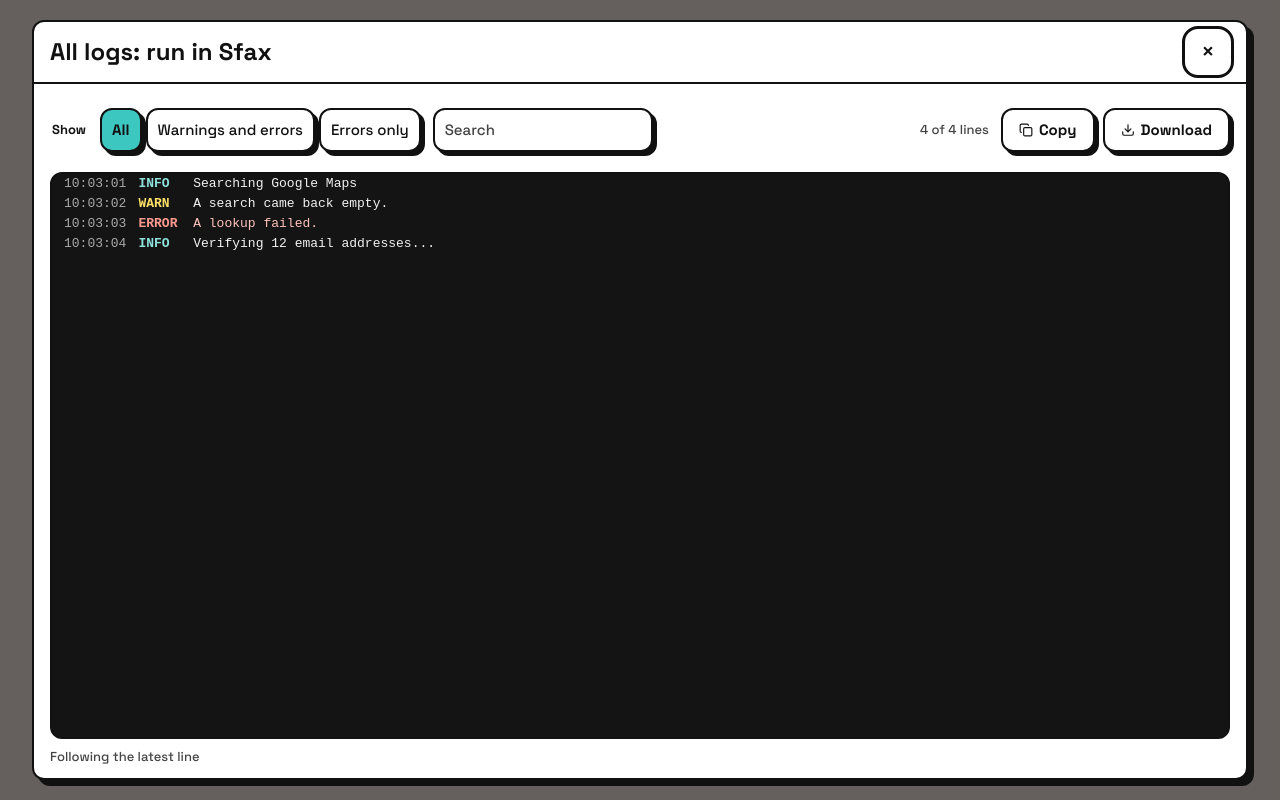
LogModal › filters by level and by text
(page scrolled)
Check: the text "Searching Google Maps" is shown, box [193,176,357,191]
Step 1. Click the radio button labelled "Warnings and errors" → (230, 130), box [146,108,315,152]
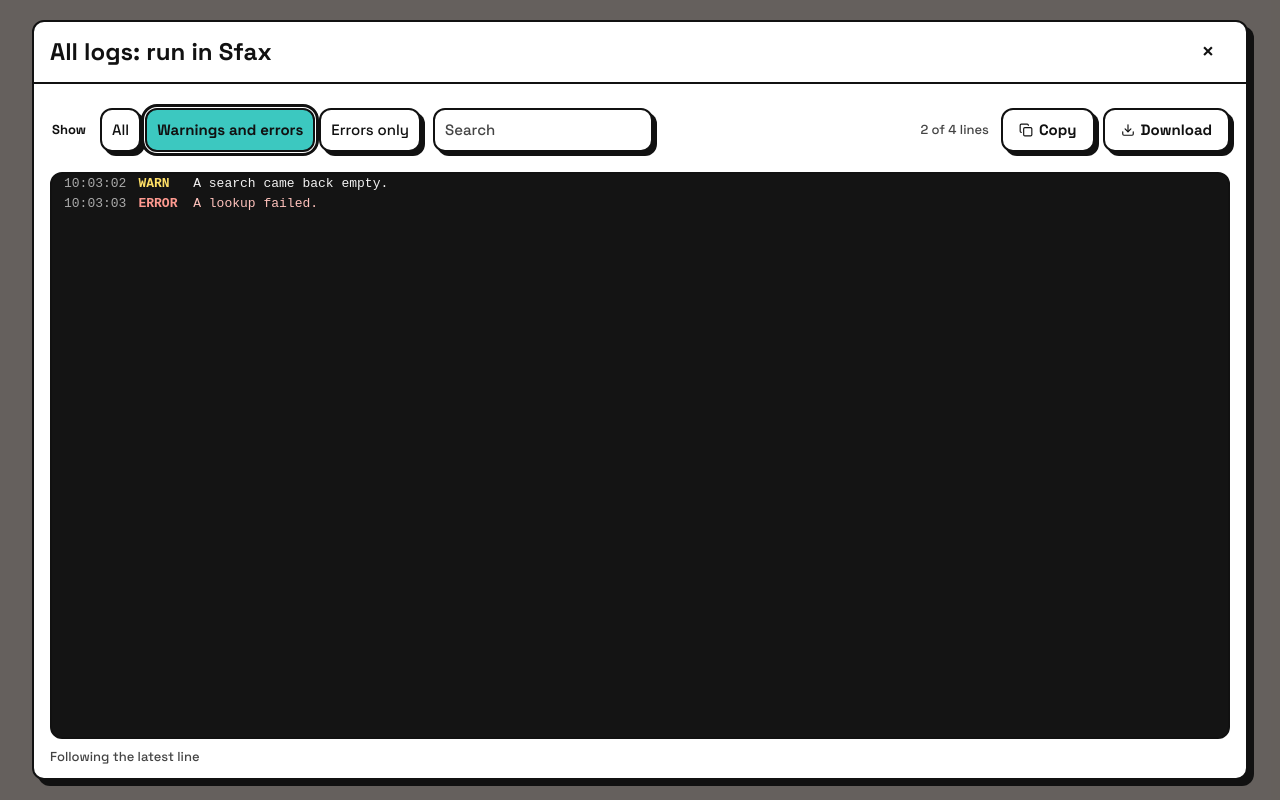
Check: the text "2 of 4 lines" is shown, box [920,120,989,140]
Step 2. Click the radio button labelled "Errors only" → (370, 130), box [319,108,421,152]
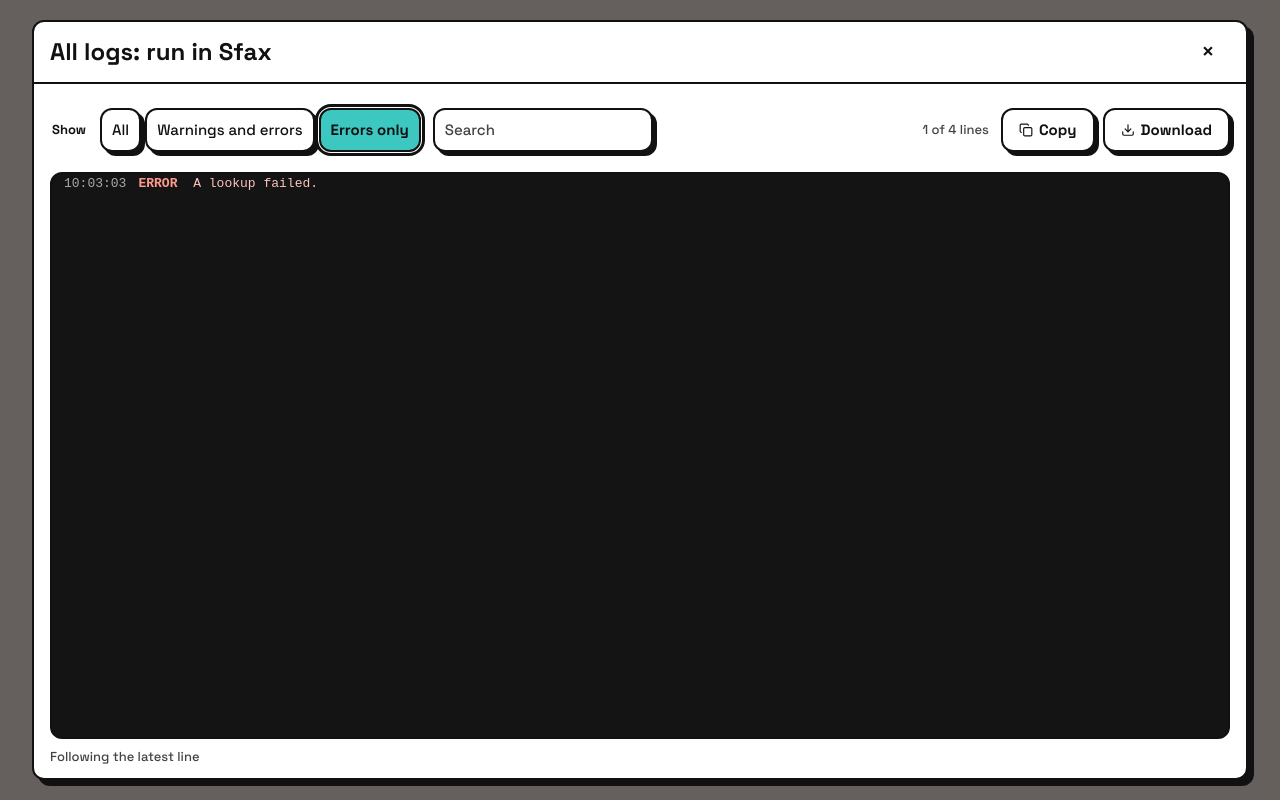
Step 3. Click the radio button labelled "All" → (121, 130), box [100,108,141,152]
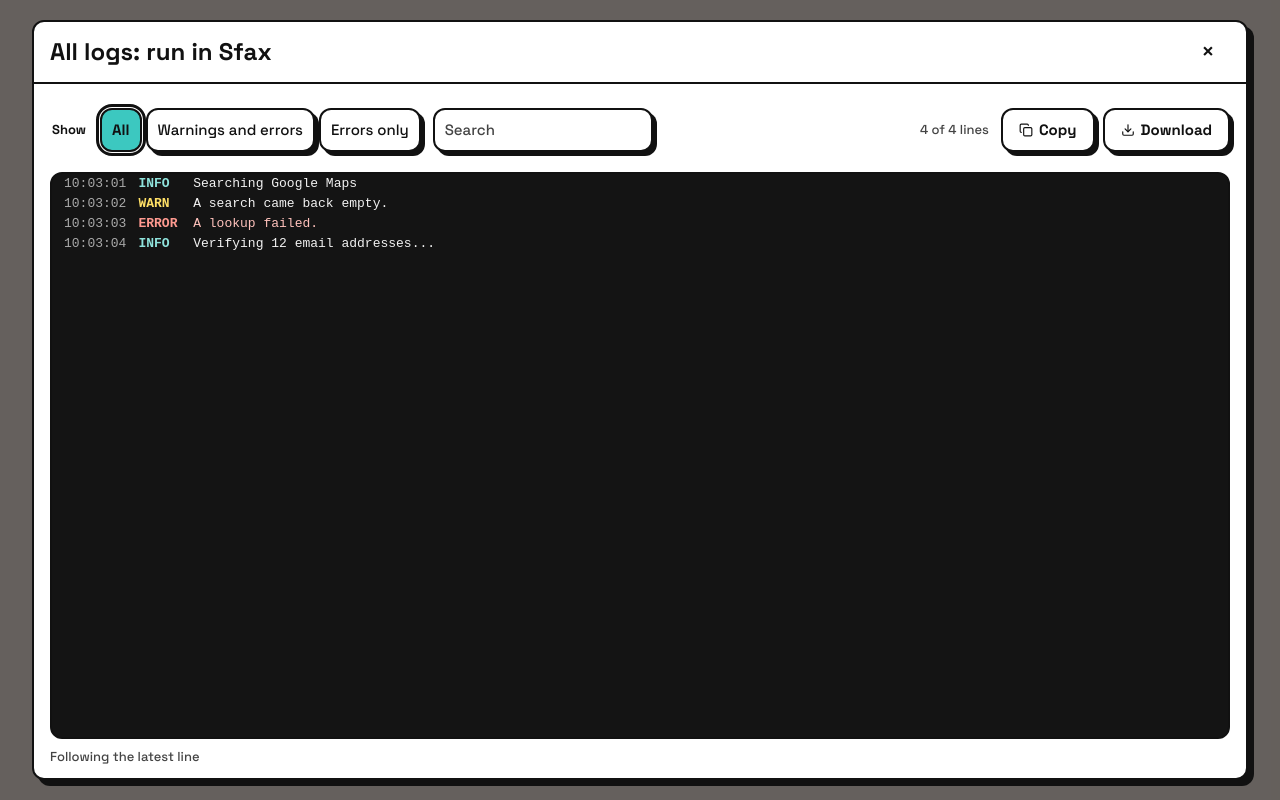
Step 4. Type "EMAIL" into the search field named "Search the log" → (543, 130), box [433,108,653,152]
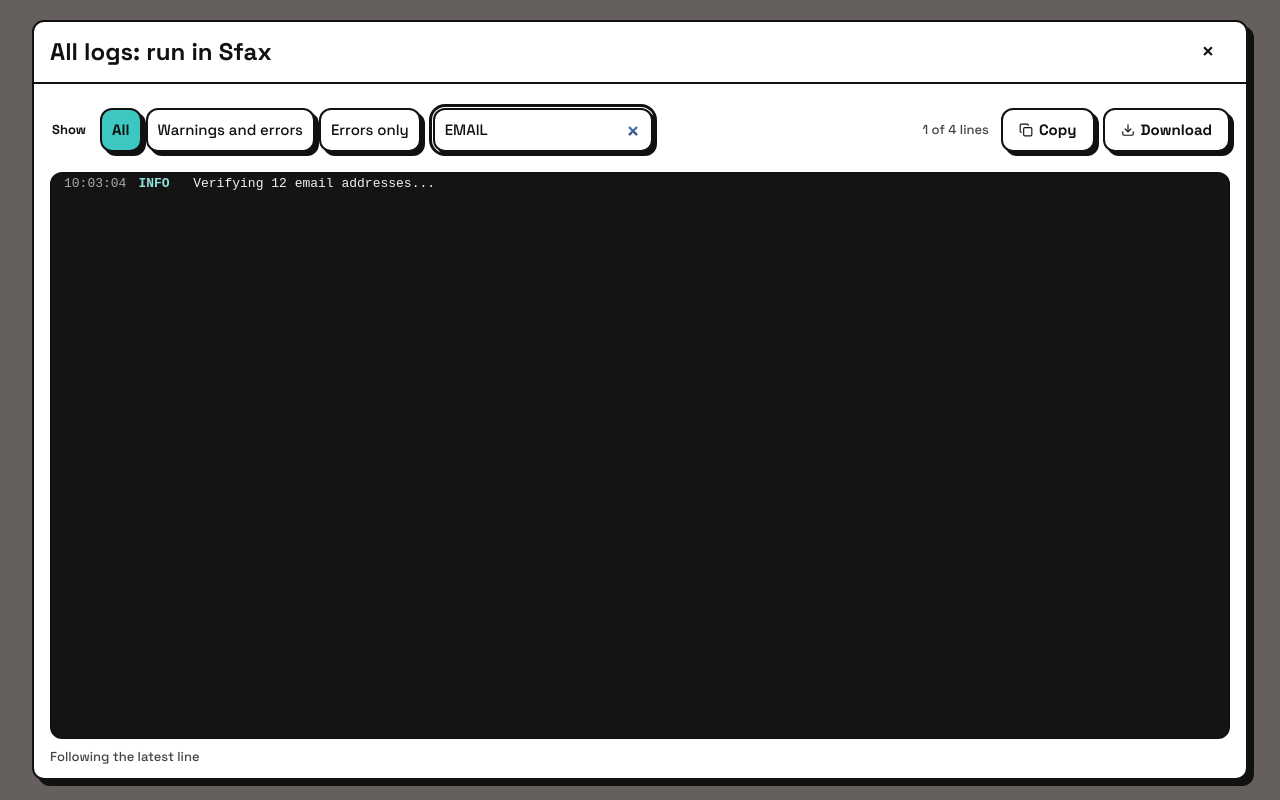
Step 5. Replace the text in the search field named "Search the log" with "nothing like this" → (543, 130), box [433,108,653,152]
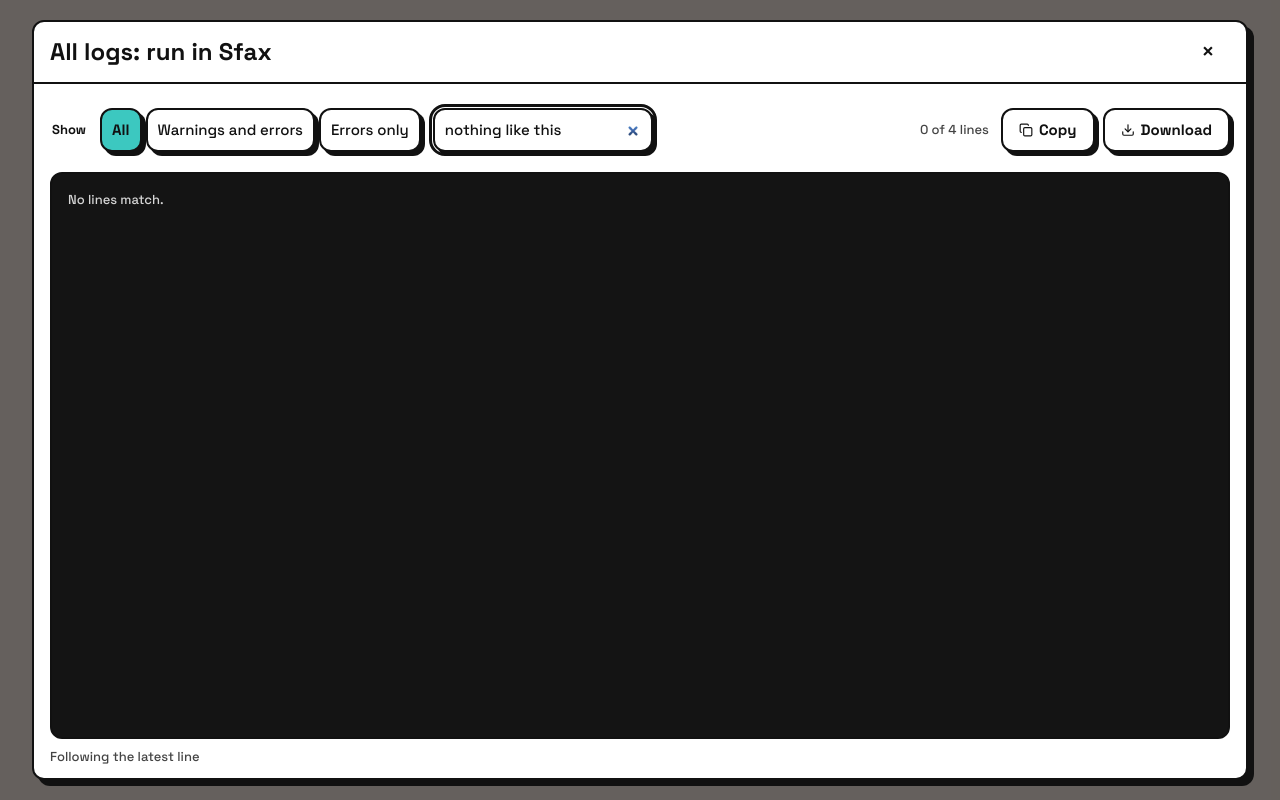
Check: the text "No lines match." is shown, box [68,191,164,208]
